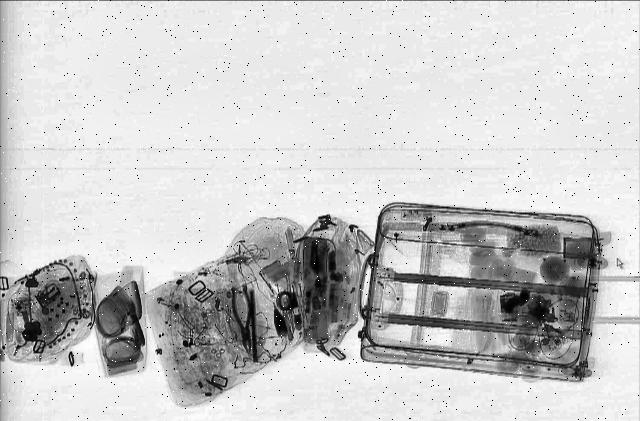Pliers: (227, 282, 261, 354)
